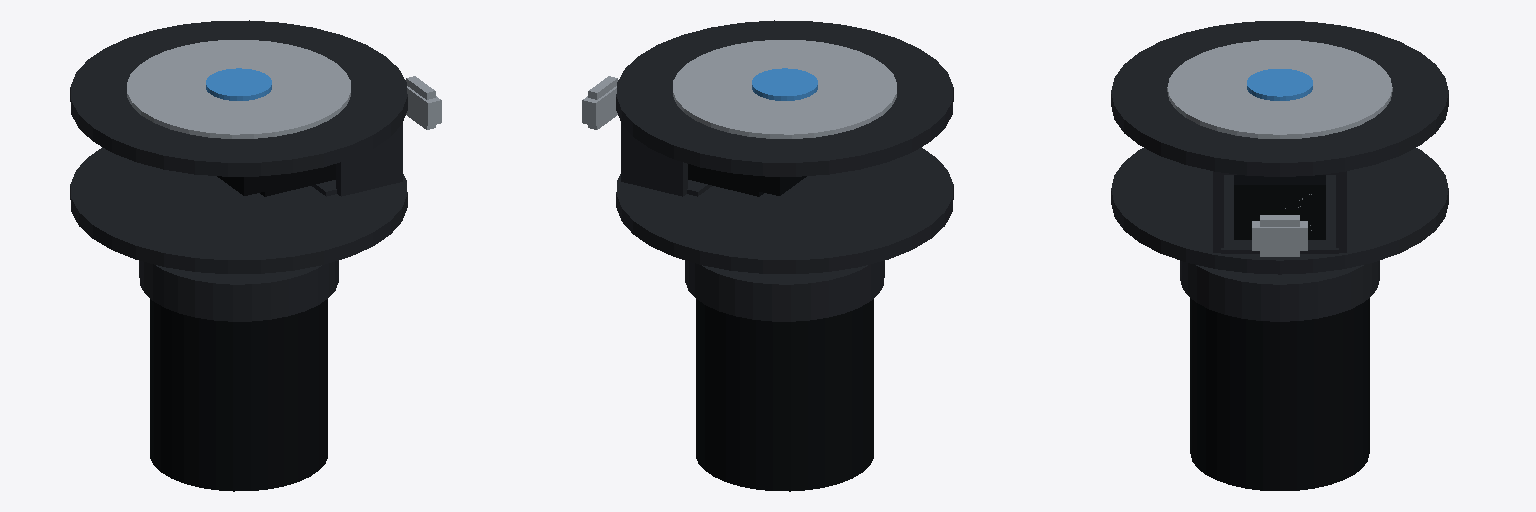
robot.urdf — cup_holder_air_purifier:
<robot name="cup_holder_air_purifier">
  <material name="body_dark">
    <color rgba="0.17 0.18 0.2 1" />
    </material>
  <material name="body_black">
    <color rgba="0.08 0.09 0.1 1" />
    </material>
  <material name="satin_silver">
    <color rgba="0.62 0.65 0.68 1" />
    </material>
  <material name="accent_blue">
    <color rgba="0.3 0.58 0.82 1" />
    </material>
  <material name="filter_media">
    <color rgba="0.86 0.89 0.88 1" />
    </material>
  <link name="body">
    <inertial>
      <origin xyz="0 0 0.08" rpy="0 0 0" />
      <mass value="0.85" />
      <inertia ixx="0.00320167" ixy="0" ixz="0" iyy="0.00320167" iyz="0" izz="0.00277667" />
      </inertial>
    <visual name="cup_holder_stem">
      <origin xyz="0 0 0.0375" rpy="0 0 0" />
      <geometry>
        <cylinder radius="0.035" length="0.075" />
        </geometry>
      <material name="body_black">
        <color rgba="0.08 0.09 0.1 1" />
        </material>
      </visual>
    <visual name="mount_collar">
      <origin xyz="0 0 0.083" rpy="0 0 0" />
      <geometry>
        <cylinder radius="0.039" length="0.016" />
        </geometry>
      <material name="body_dark">
        <color rgba="0.17 0.18 0.2 1" />
        </material>
      </visual>
    <visual name="neck_post">
      <origin xyz="0 0 0.1" rpy="0 0 0" />
      <geometry>
        <cylinder radius="0.024" length="0.02" />
        </geometry>
      <material name="body_dark">
        <color rgba="0.17 0.18 0.2 1" />
        </material>
      </visual>
    <visual name="lower_disc_cover">
      <origin xyz="0 0 0.111" rpy="0 0 0" />
      <geometry>
        <cylinder radius="0.066" length="0.006" />
        </geometry>
      <material name="body_dark">
        <color rgba="0.17 0.18 0.2 1" />
        </material>
      </visual>
    <visual name="upper_disc_cover">
      <origin xyz="0 0 0.153" rpy="0 0 0" />
      <geometry>
        <cylinder radius="0.066" length="0.006" />
        </geometry>
      <material name="body_dark">
        <color rgba="0.17 0.18 0.2 1" />
        </material>
      </visual>
    <visual name="outer_rim">
      <geometry>
        <mesh filename="assets/meshes/purifier_outer_rim.obj" />
        </geometry>
      <material name="body_dark">
        <color rgba="0.17 0.18 0.2 1" />
        </material>
      </visual>
    <visual name="opening_upper_rail">
      <origin xyz="0.043 0 0.15" rpy="0 0 0" />
      <geometry>
        <box size="0.034 0.046 0.004" />
        </geometry>
      <material name="body_dark">
        <color rgba="0.17 0.18 0.2 1" />
        </material>
      </visual>
    <visual name="opening_lower_rail">
      <origin xyz="0.043 0 0.114" rpy="0 0 0" />
      <geometry>
        <box size="0.034 0.046 0.004" />
        </geometry>
      <material name="body_dark">
        <color rgba="0.17 0.18 0.2 1" />
        </material>
      </visual>
    <visual name="opening_left_rail">
      <origin xyz="0.045 0.024 0.132" rpy="0 0 0" />
      <geometry>
        <box size="0.028 0.004 0.036" />
        </geometry>
      <material name="body_dark">
        <color rgba="0.17 0.18 0.2 1" />
        </material>
      </visual>
    <visual name="opening_right_rail">
      <origin xyz="0.045 -0.024 0.132" rpy="0 0 0" />
      <geometry>
        <box size="0.028 0.004 0.036" />
        </geometry>
      <material name="body_dark">
        <color rgba="0.17 0.18 0.2 1" />
        </material>
      </visual>
    <visual name="top_grille_ring">
      <origin xyz="0 0 0.157" rpy="0 0 0" />
      <geometry>
        <cylinder radius="0.044" length="0.002" />
        </geometry>
      <material name="satin_silver">
        <color rgba="0.62 0.65 0.68 1" />
        </material>
      </visual>
    <visual name="status_disc">
      <origin xyz="0 0 0.1585" rpy="0 0 0" />
      <geometry>
        <cylinder radius="0.013" length="0.003" />
        </geometry>
      <material name="accent_blue">
        <color rgba="0.3 0.58 0.82 1" />
        </material>
      </visual>
    </link>
  <link name="filter_cap">
    <inertial>
      <origin xyz="0.011 0 0" rpy="0 0 0" />
      <mass value="0.08" />
      <inertia ixx="3.05333e-05" ixy="0" ixz="0" iyy="1.28533e-05" iyz="0" izz="2.41333e-05" />
      </inertial>
    <visual name="cap_shell">
      <origin xyz="0.008 0 0" rpy="0 0 0" />
      <geometry>
        <mesh filename="assets/meshes/purifier_filter_cap_shell.obj" />
        </geometry>
      <material name="body_black">
        <color rgba="0.08 0.09 0.1 1" />
        </material>
      </visual>
    <visual name="cap_grip_tab">
      <origin xyz="0.016 0 0" rpy="0 0 0" />
      <geometry>
        <box size="0.006 0.022 0.01" />
        </geometry>
      <material name="satin_silver">
        <color rgba="0.62 0.65 0.68 1" />
        </material>
      </visual>
    <visual name="cap_twist_rib_upper">
      <origin xyz="0.016 0 0.006" rpy="0 0 0" />
      <geometry>
        <box size="0.004 0.016 0.004" />
        </geometry>
      <material name="satin_silver">
        <color rgba="0.62 0.65 0.68 1" />
        </material>
      </visual>
    <visual name="cap_twist_rib_lower">
      <origin xyz="0.016 0 -0.006" rpy="0 0 0" />
      <geometry>
        <box size="0.004 0.016 0.004" />
        </geometry>
      <material name="satin_silver">
        <color rgba="0.62 0.65 0.68 1" />
        </material>
      </visual>
    </link>
  <link name="filter_cartridge">
    <inertial>
      <origin xyz="0.037 0 0" rpy="0 0 0" />
      <mass value="0.1" />
      <inertia ixx="1.89667e-05" ixy="0" ixz="0" iyy="5.12667e-05" iyz="0" izz="5.89667e-05" />
      </inertial>
    <visual name="cartridge_frame">
      <origin xyz="0.034 0 0" rpy="0 0 0" />
      <geometry>
        <box size="0.068 0.036 0.024" />
        </geometry>
      <material name="body_black">
        <color rgba="0.08 0.09 0.1 1" />
        </material>
      </visual>
    <visual name="filter_core">
      <origin xyz="0.034 0 0" rpy="0 0 0" />
      <geometry>
        <box size="0.054 0.028 0.018" />
        </geometry>
      <material name="filter_media">
        <color rgba="0.86 0.89 0.88 1" />
        </material>
      </visual>
    <visual name="upper_runner">
      <origin xyz="0.034 0 0.014" rpy="0 0 0" />
      <geometry>
        <box size="0.046 0.03 0.004" />
        </geometry>
      <material name="body_black">
        <color rgba="0.08 0.09 0.1 1" />
        </material>
      </visual>
    <visual name="lower_runner">
      <origin xyz="0.034 0 -0.014" rpy="0 0 0" />
      <geometry>
        <box size="0.046 0.03 0.004" />
        </geometry>
      <material name="body_black">
        <color rgba="0.08 0.09 0.1 1" />
        </material>
      </visual>
    <visual name="filter_pleat_0">
      <origin xyz="0.034 -0.01 0" rpy="0 0 0" />
      <geometry>
        <box size="0.046 0.0015 0.017" />
        </geometry>
      <material name="satin_silver">
        <color rgba="0.62 0.65 0.68 1" />
        </material>
      </visual>
    <visual name="filter_pleat_1">
      <origin xyz="0.034 -0.005 0" rpy="0 0 0" />
      <geometry>
        <box size="0.046 0.0015 0.017" />
        </geometry>
      <material name="satin_silver">
        <color rgba="0.62 0.65 0.68 1" />
        </material>
      </visual>
    <visual name="filter_pleat_2">
      <origin xyz="0.034 0 0" rpy="0 0 0" />
      <geometry>
        <box size="0.046 0.0015 0.017" />
        </geometry>
      <material name="satin_silver">
        <color rgba="0.62 0.65 0.68 1" />
        </material>
      </visual>
    <visual name="filter_pleat_3">
      <origin xyz="0.034 0.005 0" rpy="0 0 0" />
      <geometry>
        <box size="0.046 0.0015 0.017" />
        </geometry>
      <material name="satin_silver">
        <color rgba="0.62 0.65 0.68 1" />
        </material>
      </visual>
    <visual name="filter_pleat_4">
      <origin xyz="0.034 0.01 0" rpy="0 0 0" />
      <geometry>
        <box size="0.046 0.0015 0.017" />
        </geometry>
      <material name="satin_silver">
        <color rgba="0.62 0.65 0.68 1" />
        </material>
      </visual>
    <visual name="pull_tab">
      <origin xyz="0.065 0 0" rpy="0 0 0" />
      <geometry>
        <box size="0.006 0.026 0.016" />
        </geometry>
      <material name="satin_silver">
        <color rgba="0.62 0.65 0.68 1" />
        </material>
      </visual>
    </link>
  <joint name="body_to_filter_cap" type="prismatic">
    <origin xyz="0.066 0 0.132" rpy="0 0 0" />
    <parent link="body" />
    <child link="filter_cap" />
    <axis xyz="1 0 0" />
    <limit effort="6" velocity="0.08" lower="0" upper="0.022" />
    </joint>
  <joint name="body_to_filter_cartridge" type="prismatic">
    <origin xyz="-0.008 0 0.132" rpy="0 0 0" />
    <parent link="body" />
    <child link="filter_cartridge" />
    <axis xyz="1 0 0" />
    <limit effort="12" velocity="0.1" lower="0" upper="0.048" />
    </joint>
  </robot>

--- What the picture shows (computed from the rendered views, not written in the file) ---
3 views of the same robot in one strip: view 1: azimuth 30°, elevation 25°; view 2: azimuth 150°, elevation 25°; view 3: azimuth 270°, elevation 25° (orthographic).
Robot: cup_holder_air_purifier — 3 links, 2 joints (2 prismatic); root link body; default pose: all joints at 0.
Visible links, largest first — view 1: body, filter_cartridge, filter_cap; view 2: body, filter_cartridge, filter_cap; view 3: body, filter_cartridge, filter_cap.
Boxes of the visible links, x1,y1,x2,y2 form: body: (70,20,407,491); filter_cartridge: (217,164,335,196); filter_cap: (406,76,441,129); body: (616,20,953,491); filter_cartridge: (688,164,806,196); filter_cap: (582,76,617,129); body: (1111,21,1448,490); filter_cartridge: (1234,175,1325,239); filter_cap: (1252,215,1307,256).
Bounding box of the posed robot: 0.151 × 0.132 × 0.16 m (x, y, z).
Meshes: 2 distinct files referenced, 0 mesh visuals loaded (none loaded); not drawn: 2 (reference not matched to a file when rendering).
